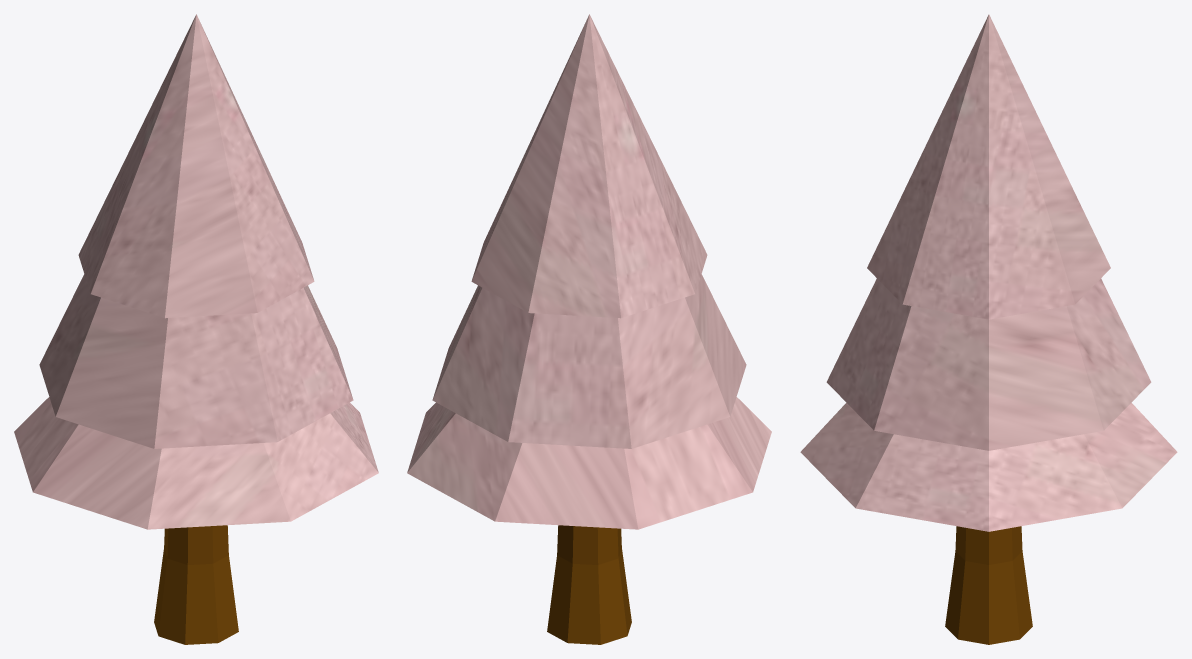
File: Tree3_modified.gltf
3 views of the same model, side by side, from view 1: azimuth 30°, elevation 25°; view 2: azimuth 150°, elevation 25°; view 3: azimuth 270°, elevation 25° (orthographic).
Visible parts, largest first — view 1: Tree3_modified; view 2: Tree3_modified; view 3: Tree3_modified.
Boxes of the visible parts, left/top/right/bottom form: Tree3_modified: left=14, top=14, right=378, bottom=644; Tree3_modified: left=407, top=14, right=771, bottom=644; Tree3_modified: left=800, top=14, right=1177, bottom=644.
Size of the model in its own units: 149 by 266 by 149.
3 materials, 1 textured.
